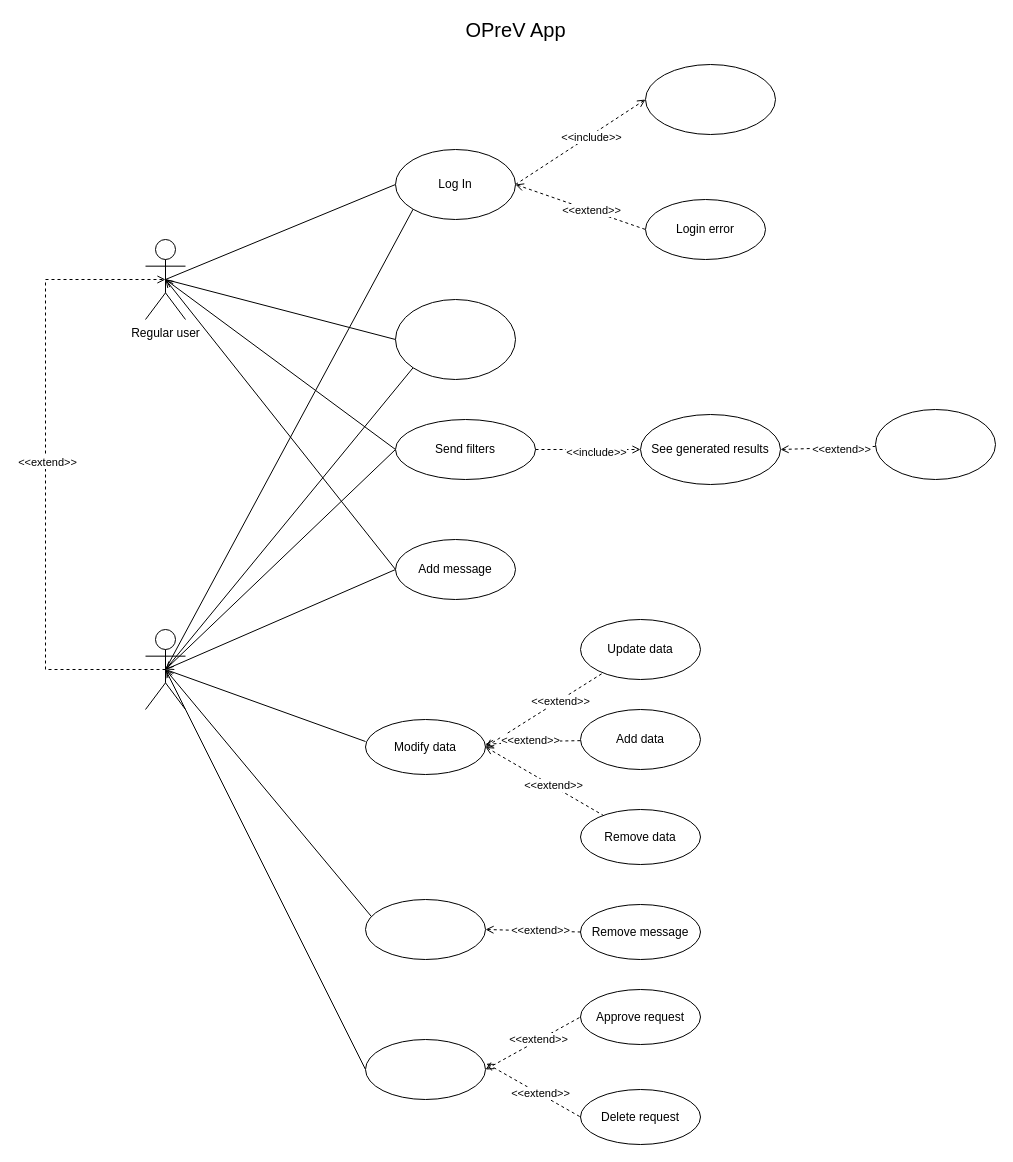
Image size: 1013x1162. Some labels were removed from this diagram. The centre of each missing label's shape, as x and y in pixels:
"Admin" belongs at pixel 165 669.
"Check username and password" belongs at pixel 710 99.
"Export statistics" belongs at pixel 935 444.
"Modify messages" belongs at pixel 425 929.
"Modify users" belongs at pixel 425 1069.
"Sign Up" belongs at pixel 455 339.
